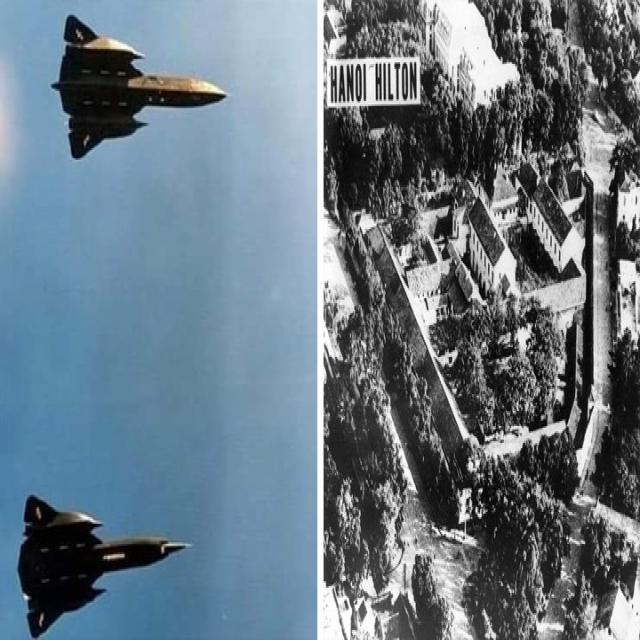MIL_Plane: (50, 13, 232, 162), (17, 493, 194, 640)
